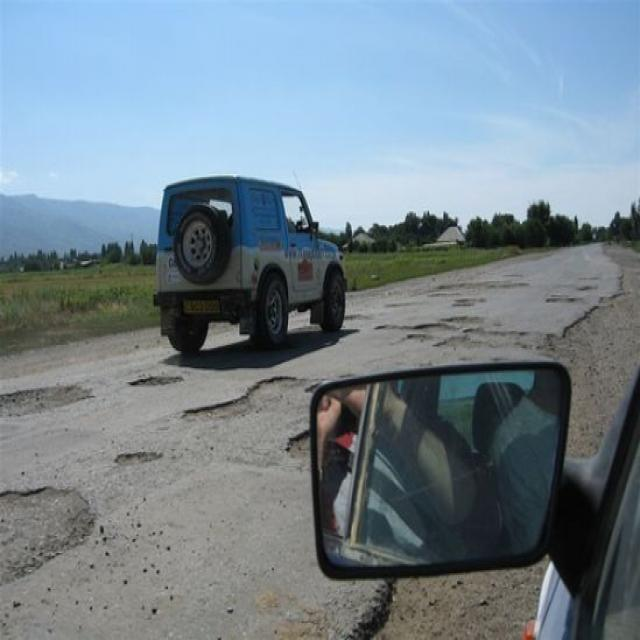Pothole: (1, 475, 93, 584), (180, 369, 301, 428), (1, 376, 97, 416), (128, 371, 187, 387)
